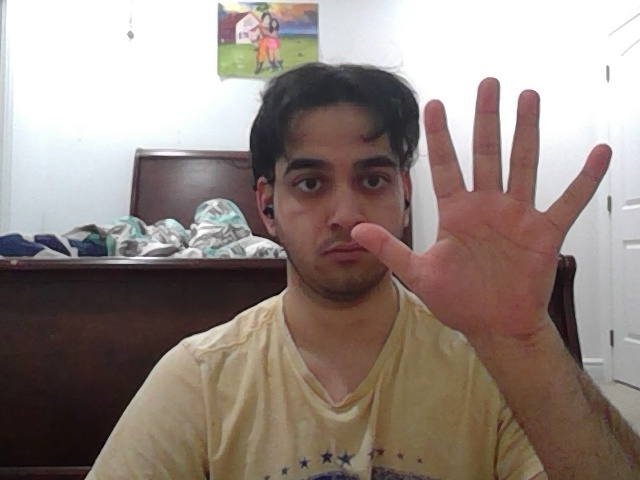hello: (351, 77, 610, 326)
